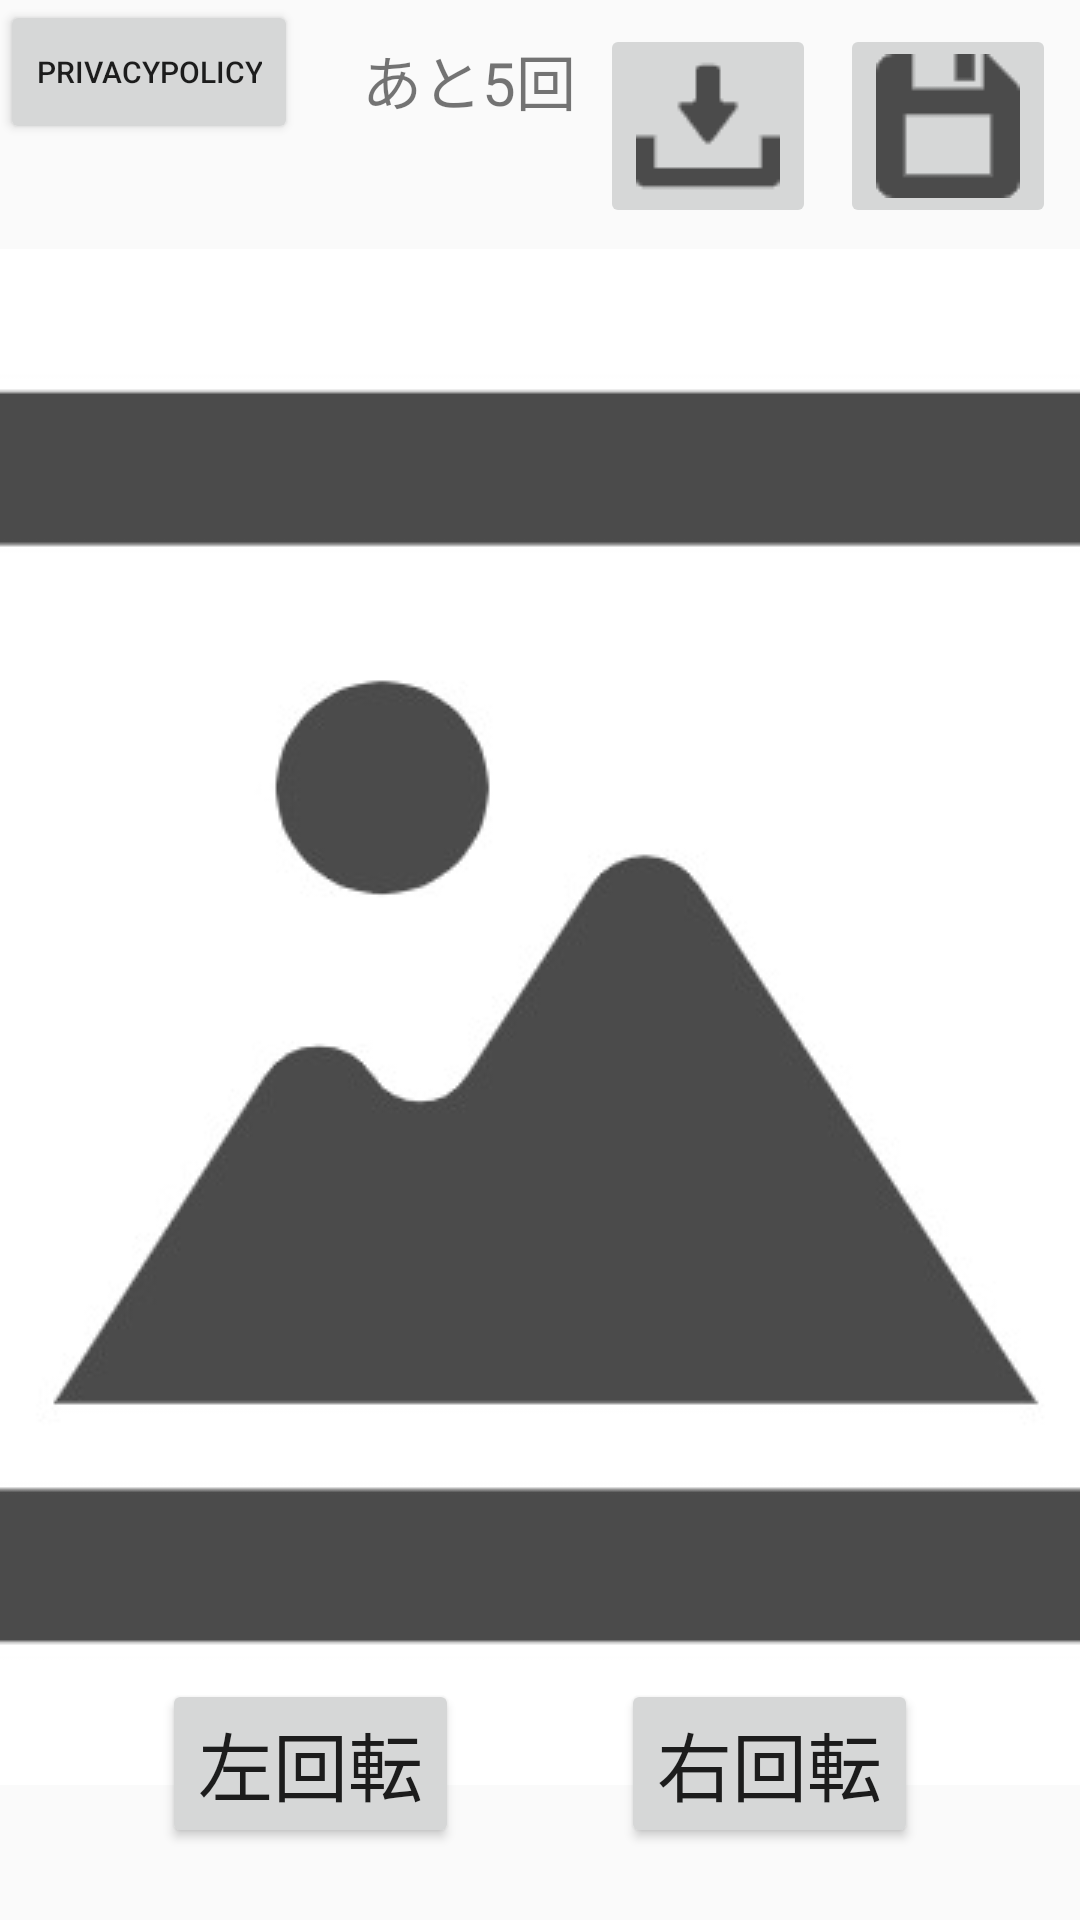

Locate icon controls on the screen. Image size 1080px×1920px, boxes as box=[x1, y1, x2, y2].
importbutton: box=[612, 42, 804, 210]
savebutton: box=[852, 42, 1044, 210]
